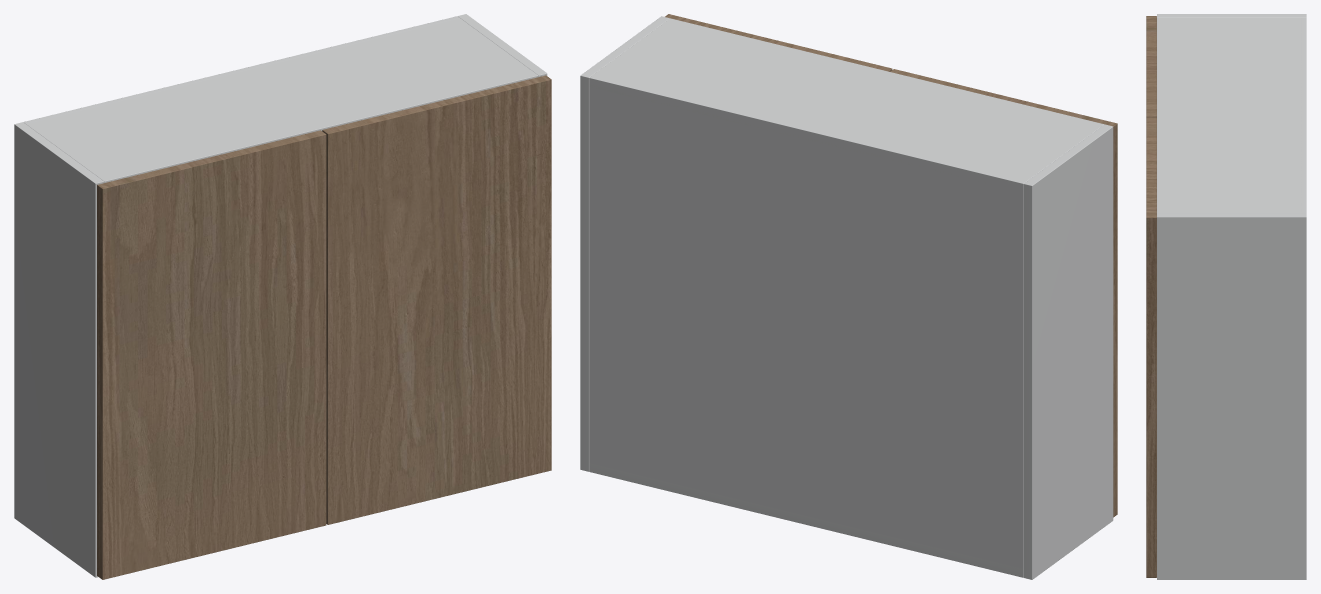
File: oppein-ply-mnw-w3630.glb
3 views of the same model, side by side, from view 1: azimuth 30°, elevation 25°; view 2: azimuth 150°, elevation 25°; view 3: azimuth 270°, elevation 25° (orthographic). The views are drawn at different scales.
Parts seen in each view (by area): view 1: Door, Door.001, Cabinet top, Cabinet side, Cabinet back, Cabinet side.001; view 2: Cabinet back, Cabinet side, Cabinet top, Cabinet side.001, Cabinet bottom, Door, Door.001; view 3: Cabinet side.001, Cabinet top, Door.001, Cabinet back, Door, Cabinet side.
Boxes of the visible parts, x1,y1,x2,y2 form: Door: (97,130,326,579); Door.001: (322,75,551,524); Cabinet top: (23,18,538,182); Cabinet side: (14,122,104,577); Cabinet back: (24,16,459,124); Cabinet side.001: (458,14,547,76); Cabinet back: (589,76,1025,577); Cabinet side: (1023,124,1113,579); Cabinet top: (589,18,1104,191); Cabinet side.001: (580,16,669,471); Cabinet bottom: (589,463,1023,577); Door: (890,69,1117,517); Door.001: (665,14,892,71); Cabinet side.001: (1157,213,1306,579); Cabinet top: (1157,18,1306,213); Door.001: (1146,117,1156,577); Cabinet back: (1300,18,1306,213); Door: (1146,16,1156,117); Cabinet side: (1157,14,1306,17).
Bounding box in the file's own units: 0.9144 × 0.762 × 0.3048.
2 materials, 1 textured.
